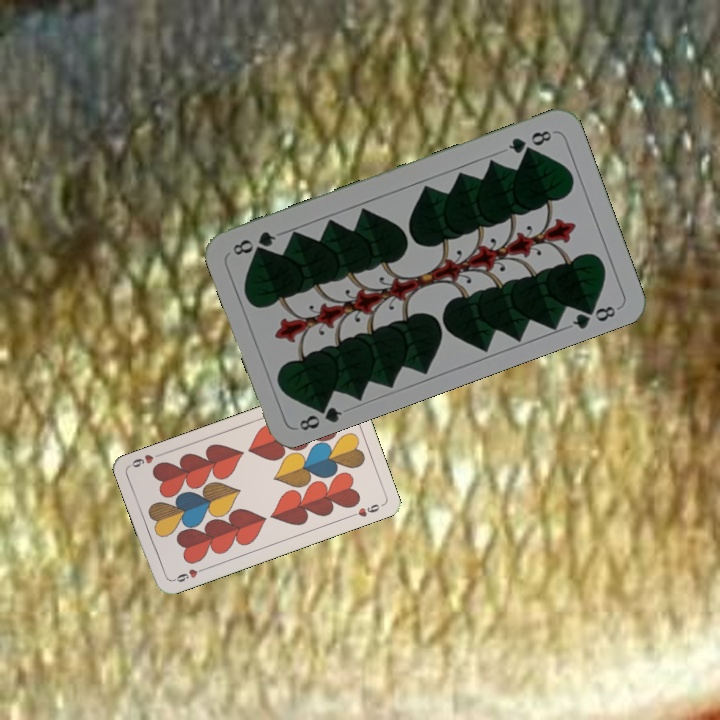G8: (295, 397, 345, 434), (504, 126, 554, 156)
H9: (168, 564, 208, 585)
